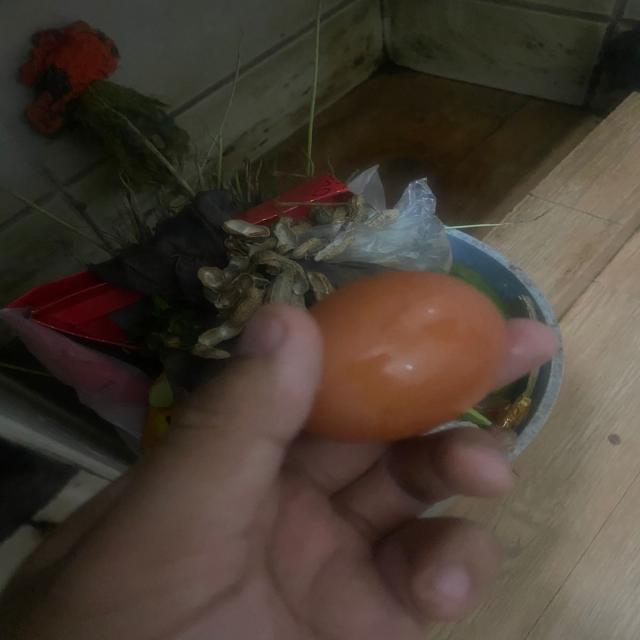Egg: (290, 265, 514, 441)
